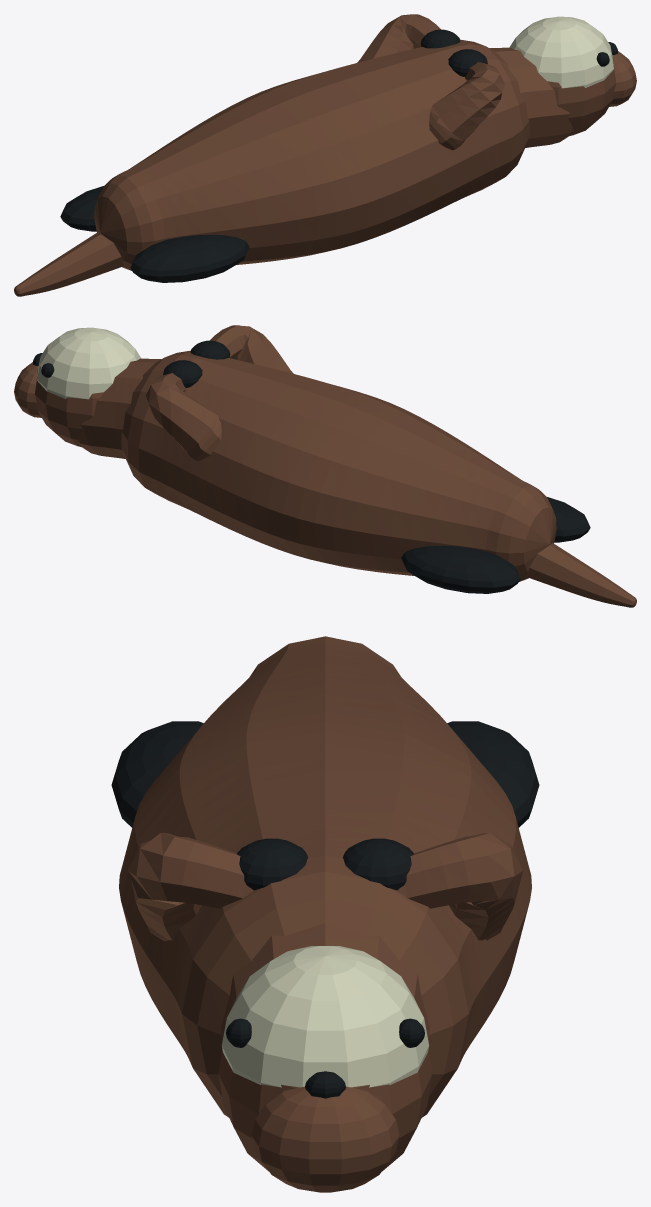
Rendered from sea-otter-floating.dae.
The picture shows the model from 3 angles, top to bottom: view 1: azimuth 30°, elevation 25°; view 2: azimuth 150°, elevation 25°; view 3: azimuth 270°, elevation 25°; orthographic projection. The views are drawn at different scales.
Visible parts, largest first — view 1: part2-node, part1-node, part0-node; view 2: part2-node, part1-node, part0-node; view 3: part2-node, part0-node, part1-node.
Boxes of the visible parts, bbox=[...] form: part2-node: bbox=[14, 14, 636, 296]; part1-node: bbox=[60, 29, 617, 282]; part0-node: bbox=[509, 16, 613, 88]; part2-node: bbox=[14, 325, 636, 607]; part1-node: bbox=[33, 340, 590, 593]; part0-node: bbox=[37, 327, 141, 399]; part2-node: bbox=[119, 636, 531, 1192]; part0-node: bbox=[221, 946, 429, 1087]; part1-node: bbox=[111, 721, 539, 1098].
Bounding box in the file's own units: 1.2 × 0.3614 × 0.3099.
